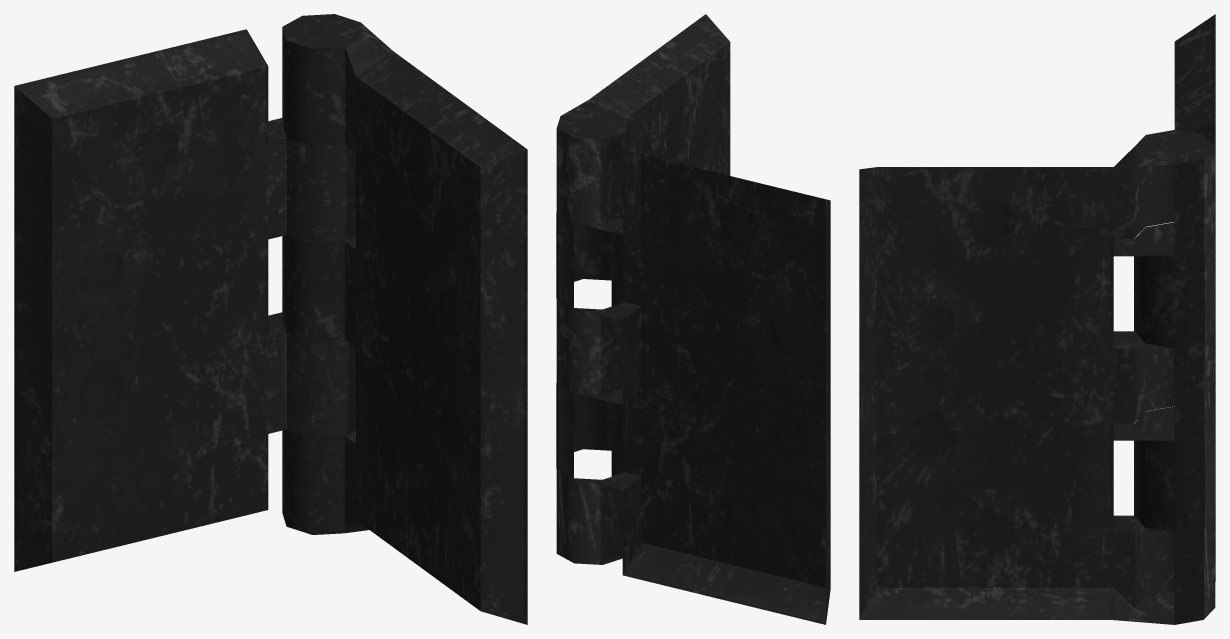
Rendered from Door Hinge.FBX.
3 views of the same model, side by side, from view 1: azimuth 30°, elevation 25°; view 2: azimuth 150°, elevation 25°; view 3: azimuth 270°, elevation 25° (orthographic). The views are drawn at different scales.
Visible parts, largest first — view 1: Door Hinge, Door Hinge Part; view 2: Door Hinge, Door Hinge Part; view 3: Door Hinge Part, Door Hinge.
Part boxes in pixels (x1,y1,x2,y2): Door Hinge: (14,29,355,571); Door Hinge Part: (282,14,527,624); Door Hinge: (556,150,830,624); Door Hinge Part: (556,14,730,564); Door Hinge Part: (859,130,1215,624); Door Hinge: (1134,14,1215,581).
Bounding box in the file's own units: 0.7002 × 0.701 × 1.
